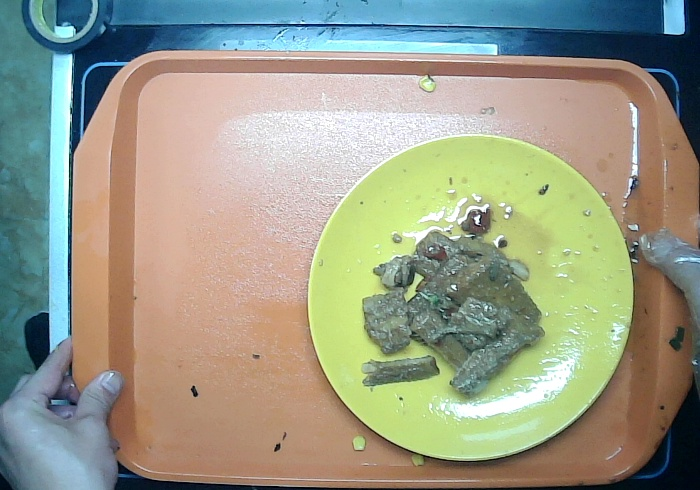HZYJPL-Huang_Se_Yuan_Pan: (303, 129, 630, 469)
